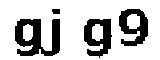9: (116, 4, 151, 52)
g: (74, 14, 115, 60), (8, 17, 40, 60)
j: (41, 7, 65, 60)
